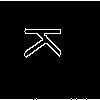K: (25, 25, 71, 58)
